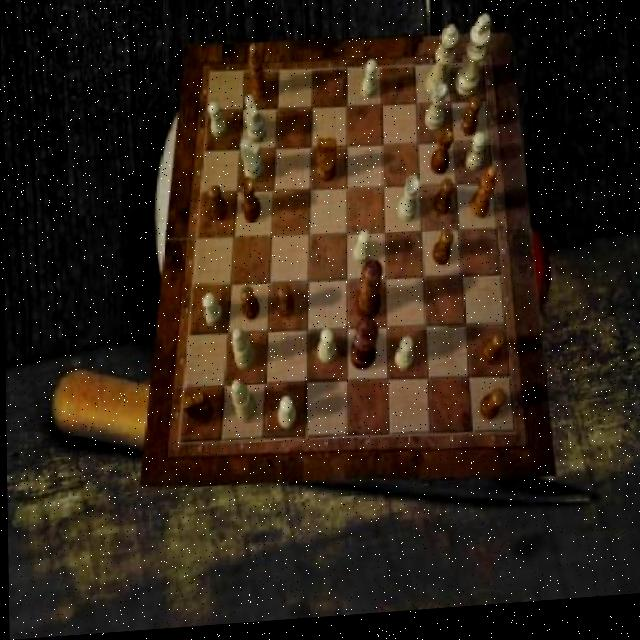bishop: (470, 172, 498, 227), (248, 46, 269, 106)
black-bishop: (350, 323, 378, 377)
black-king: (180, 394, 213, 430), (317, 142, 338, 188)
black-knight: (480, 338, 504, 374), (479, 395, 505, 428), (460, 103, 481, 143), (431, 237, 454, 273), (208, 187, 229, 226), (433, 184, 454, 223), (239, 290, 258, 326), (277, 288, 295, 323)
black-pawn: (354, 264, 382, 326)
black-queen: (429, 134, 453, 183), (239, 179, 261, 226)
black-rook: (231, 382, 256, 426), (232, 330, 256, 374)
white-bishop: (455, 21, 493, 105)
white-king: (240, 140, 264, 187), (246, 99, 267, 149)
white-knight: (465, 140, 485, 178), (208, 104, 227, 143), (202, 295, 222, 330), (361, 66, 378, 105), (316, 333, 334, 369), (277, 400, 295, 435), (395, 342, 413, 377), (352, 236, 370, 271)
white-pawn: (424, 32, 460, 106)
white-queen: (424, 88, 448, 137), (396, 182, 420, 229)
